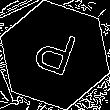P_S: (29, 25, 81, 85)
